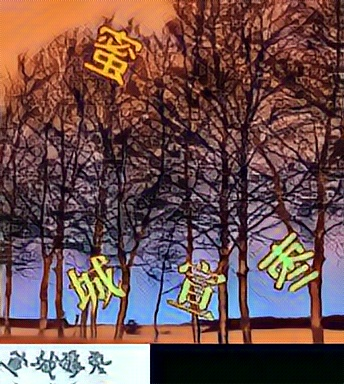B3C7: (67, 250, 127, 314)
C3DB: (81, 20, 141, 84)
D0FB: (166, 256, 226, 320)
D4E6: (257, 229, 317, 293)
